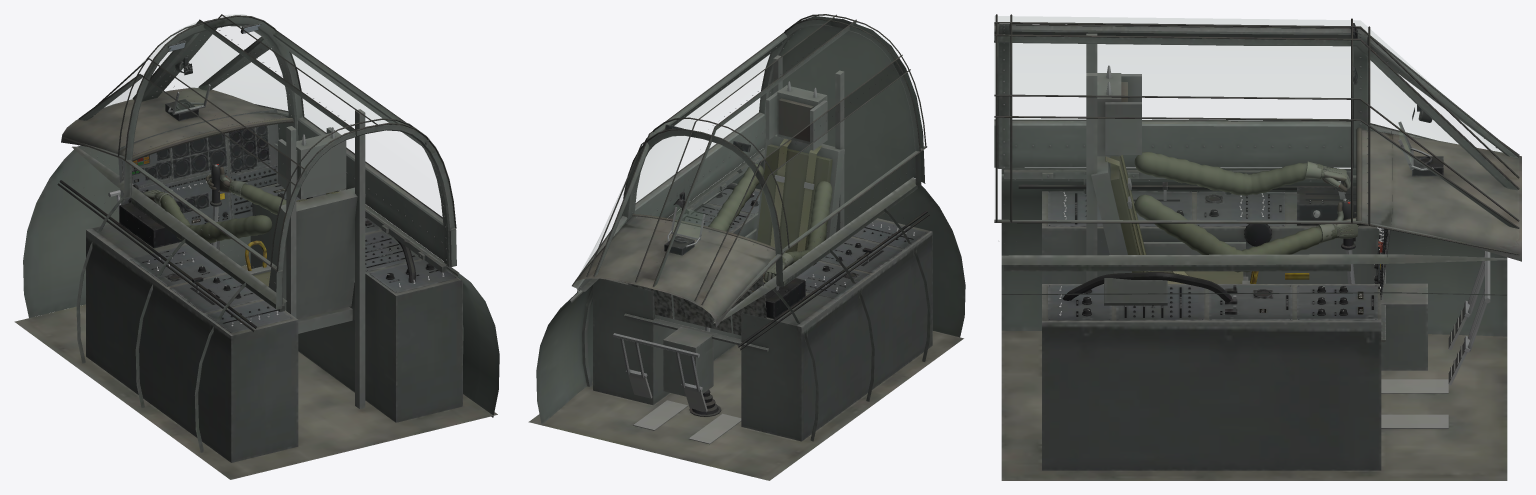
File: garza_cockpit.glb
The picture shows the model from 3 angles, left to right: view 1: azimuth 30°, elevation 25°; view 2: azimuth 150°, elevation 25°; view 3: azimuth 270°, elevation 25°; orthographic projection. The views are drawn at different scales.
Parts seen in each view (by area): view 1: cockpit_shell, canopy_glass, hand_throttle, hand_stick; view 2: cockpit_shell, canopy_glass, hand_throttle, hand_stick; view 3: cockpit_shell, canopy_glass, hand_throttle, hand_stick.
Part boxes in pixels (left/top/right/bottom): cockpit_shell: left=14, top=14, right=499, bottom=479; canopy_glass: left=104, top=14, right=401, bottom=134; hand_throttle: left=143, top=189, right=272, bottom=242; hand_stick: left=205, top=166, right=286, bottom=214; cockpit_shell: left=528, top=14, right=965, bottom=480; canopy_glass: left=577, top=53, right=771, bottom=278; hand_throttle: left=763, top=181, right=832, bottom=282; hand_stick: left=708, top=164, right=764, bottom=231; cockpit_shell: left=994, top=14, right=1521, bottom=480; canopy_glass: left=994, top=16, right=1502, bottom=152; hand_throttle: left=1134, top=152, right=1350, bottom=195; hand_stick: left=1134, top=194, right=1358, bottom=272.
Size of the model in its own units: 1.5 by 1.71 by 2.16.
Materials: 4 (1 with a texture image).
